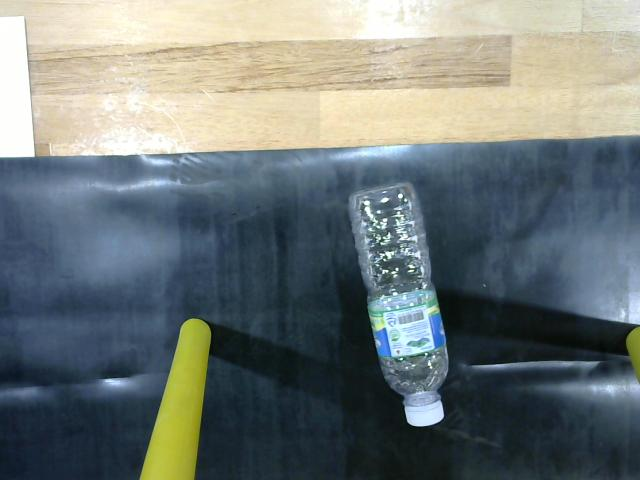bottle: (341, 172, 457, 433)
